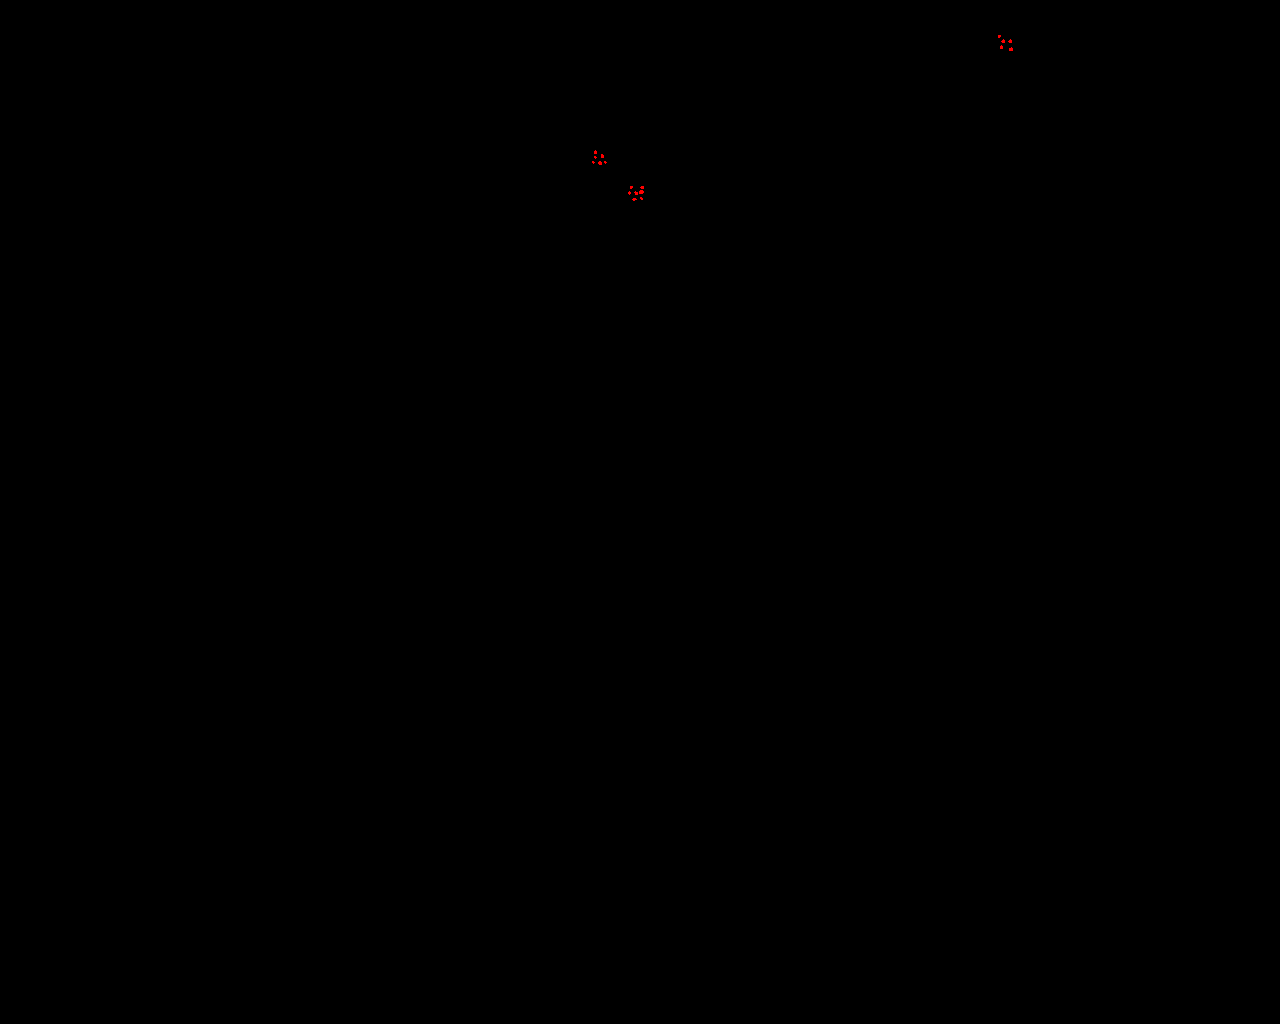Target: (1001, 39, 1005, 43), (1008, 39, 1013, 43), (598, 161, 602, 165), (639, 190, 644, 194), (634, 191, 638, 195), (632, 197, 637, 201), (1000, 45, 1003, 49), (1009, 47, 1013, 51), (601, 154, 604, 158), (639, 186, 644, 189), (628, 191, 631, 195), (998, 34, 1001, 38), (594, 150, 597, 154), (594, 156, 597, 159), (604, 161, 607, 164), (630, 186, 633, 189), (592, 161, 595, 164), (639, 197, 643, 200)
